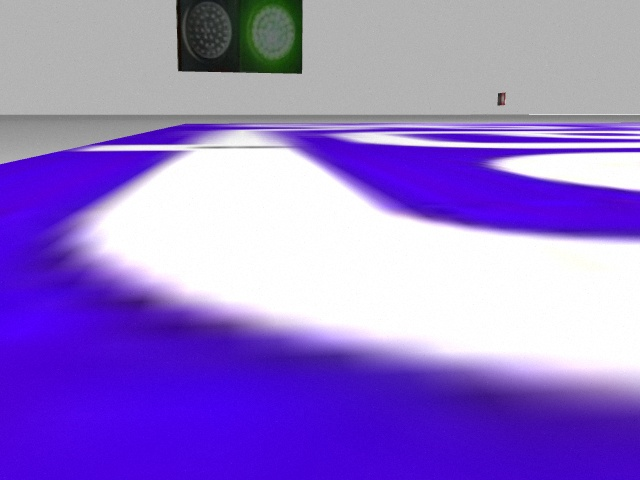green: (240, 2, 304, 72)
